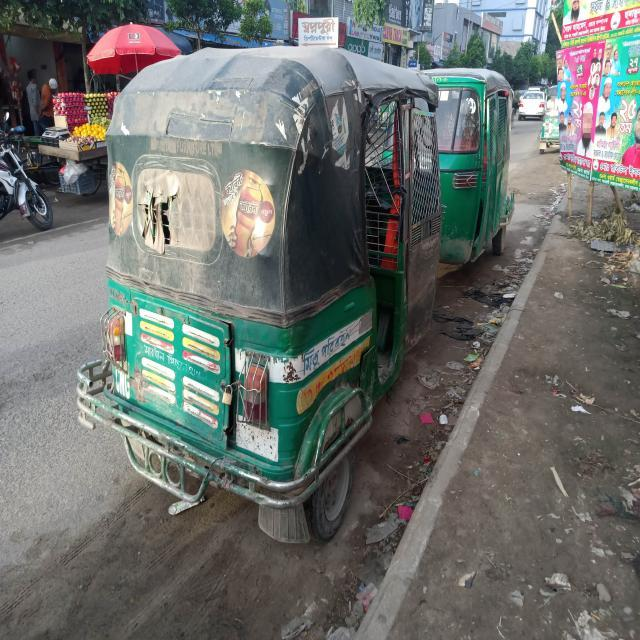CNG: (82, 33, 443, 545)
